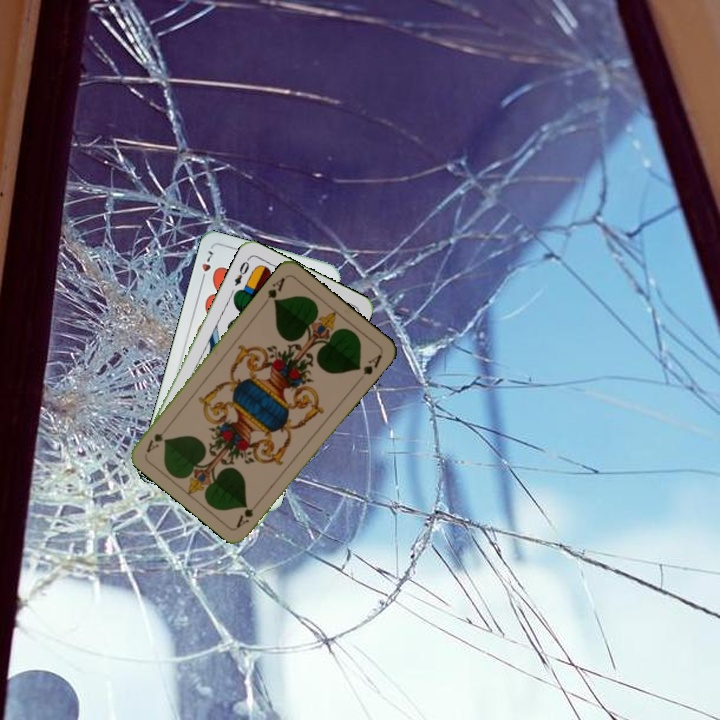EO: (230, 254, 252, 288)
GA: (232, 496, 263, 530), (259, 273, 288, 308)
H7: (197, 246, 216, 285)
